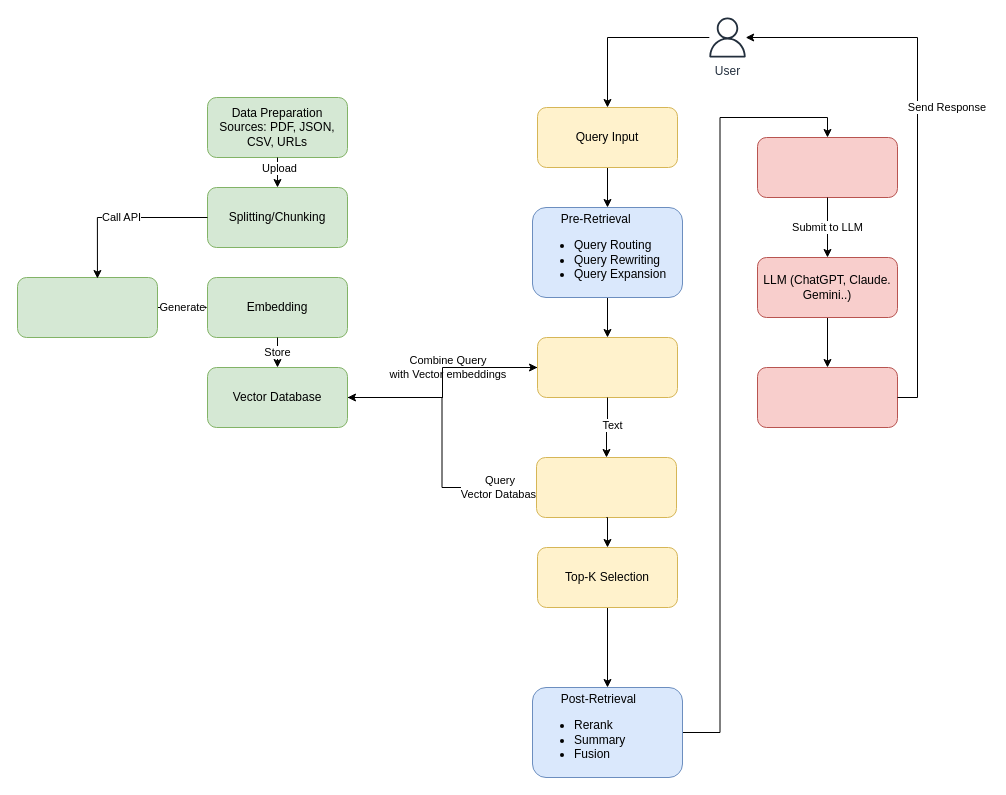
Image size: 1006x795. Some labels were removed from this diagram. Here are the shapes that lost their labels. From the top down, the centre of each, then its label:
At pixel 827 167: "Prompt Construction".
At pixel 87 307: "LLM Embedding Model".
At pixel 607 367: "Query Vectorization".
At pixel 827 397: "Response Generation".
At pixel 606 487: "Similarity Search".
